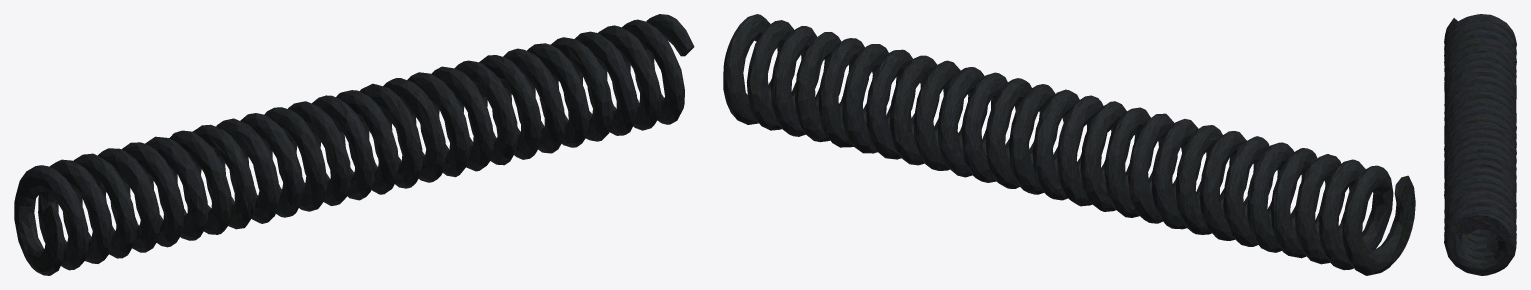
Rendered from Ejector_Spring.dae.
3 views of the same model, side by side, from view 1: azimuth 30°, elevation 25°; view 2: azimuth 150°, elevation 25°; view 3: azimuth 270°, elevation 25° (orthographic). The views are drawn at different scales.
Parts seen in each view (by area): view 1: Ejector_Spring; view 2: Ejector_Spring; view 3: Ejector_Spring.
Boxes of the visible parts, x1,y1,x2,y2 form: Ejector_Spring: [14, 14, 694, 275]; Ejector_Spring: [723, 14, 1415, 275]; Ejector_Spring: [1444, 14, 1516, 275].
Bounding box in the file's own units: 0.0171 × 0.00255 × 0.00255.
1 material, 1 textured.
